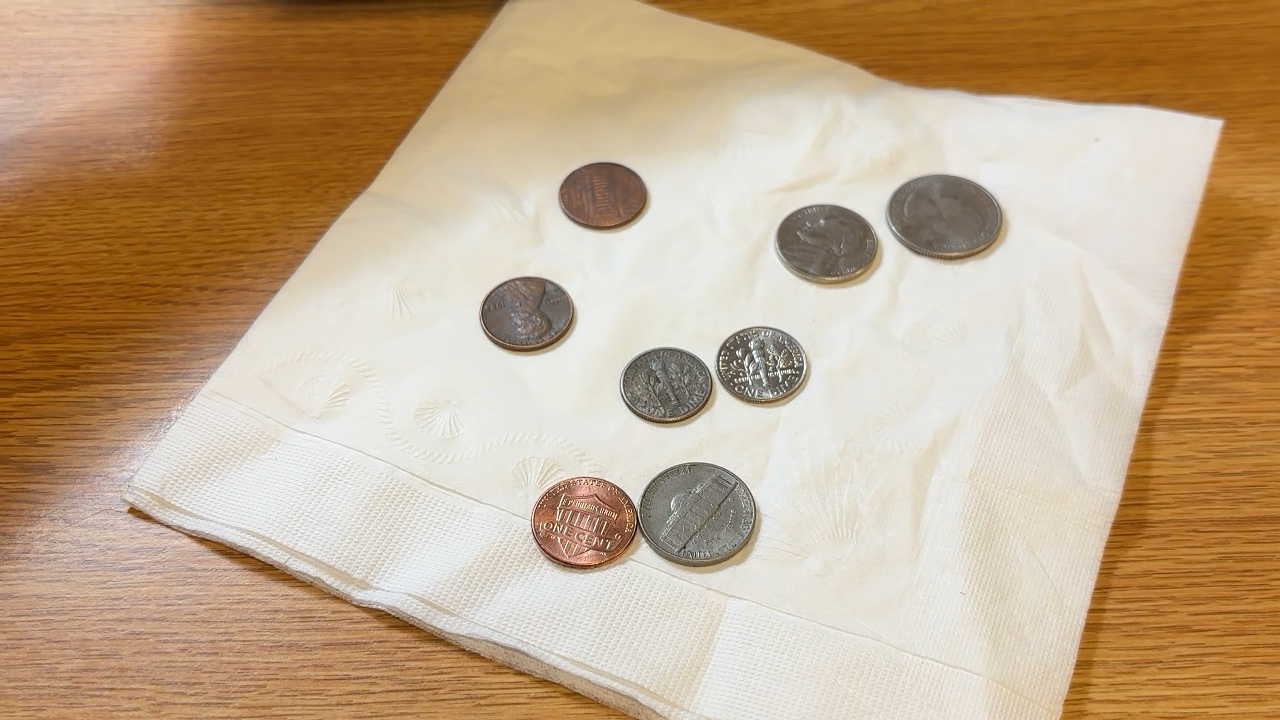dime: (620, 346, 714, 427), (718, 325, 810, 405)
nickel: (639, 462, 757, 564), (773, 204, 881, 285)
penny: (530, 475, 640, 573), (478, 275, 578, 350), (558, 162, 650, 230)
quarter: (883, 174, 1007, 261)
